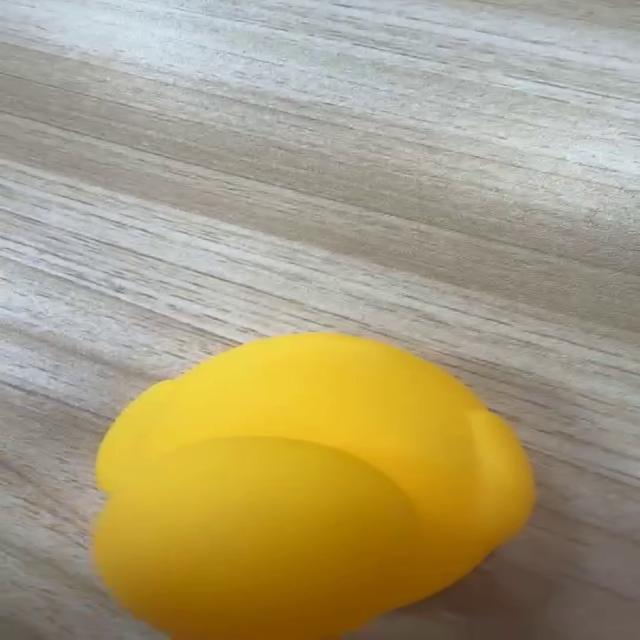yellow_duck: (89, 330, 537, 638)
